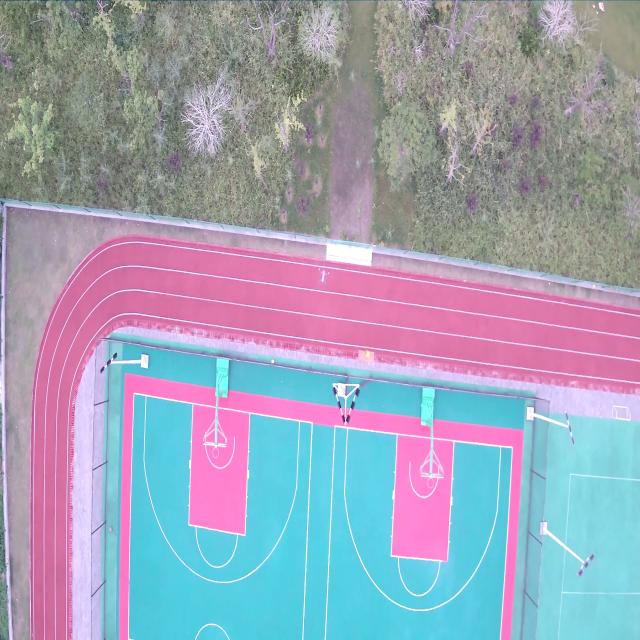UAV: (317, 266, 329, 287)
